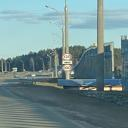speed_limit_100: (60, 64, 74, 72)
speed_limit_120: (60, 52, 74, 60)
